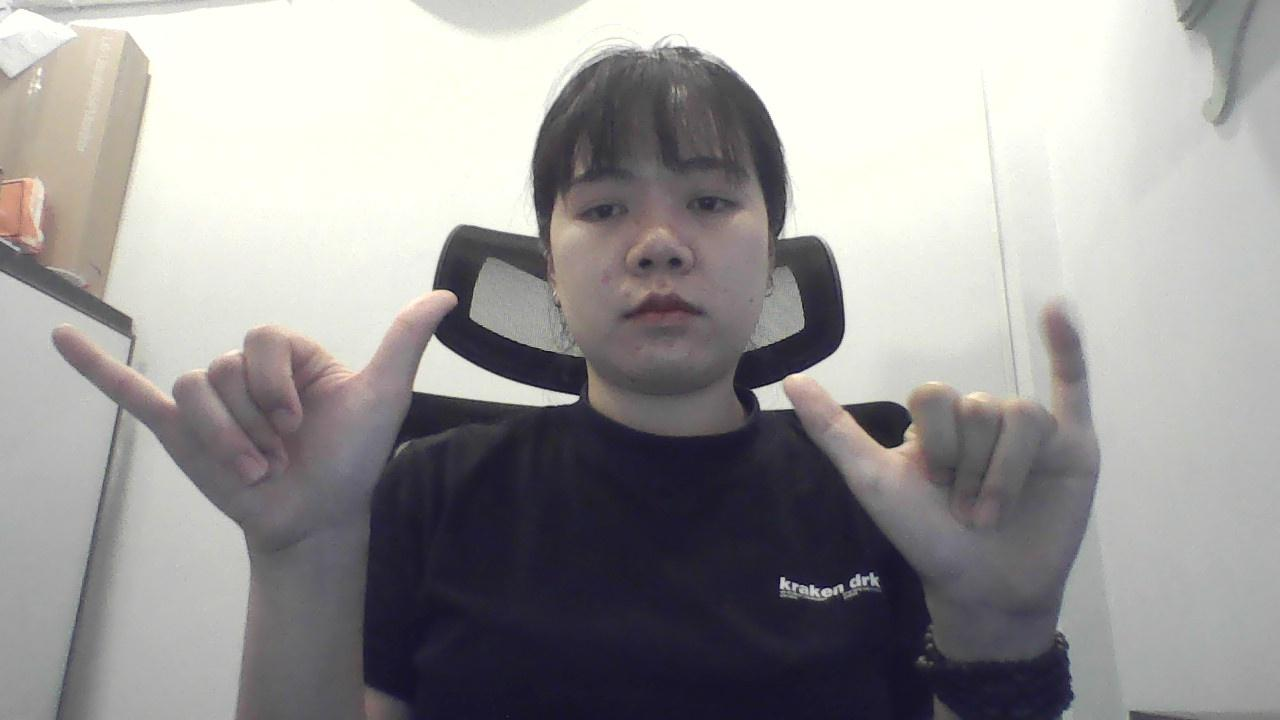Y: (767, 291, 1149, 633), (42, 282, 502, 541)
